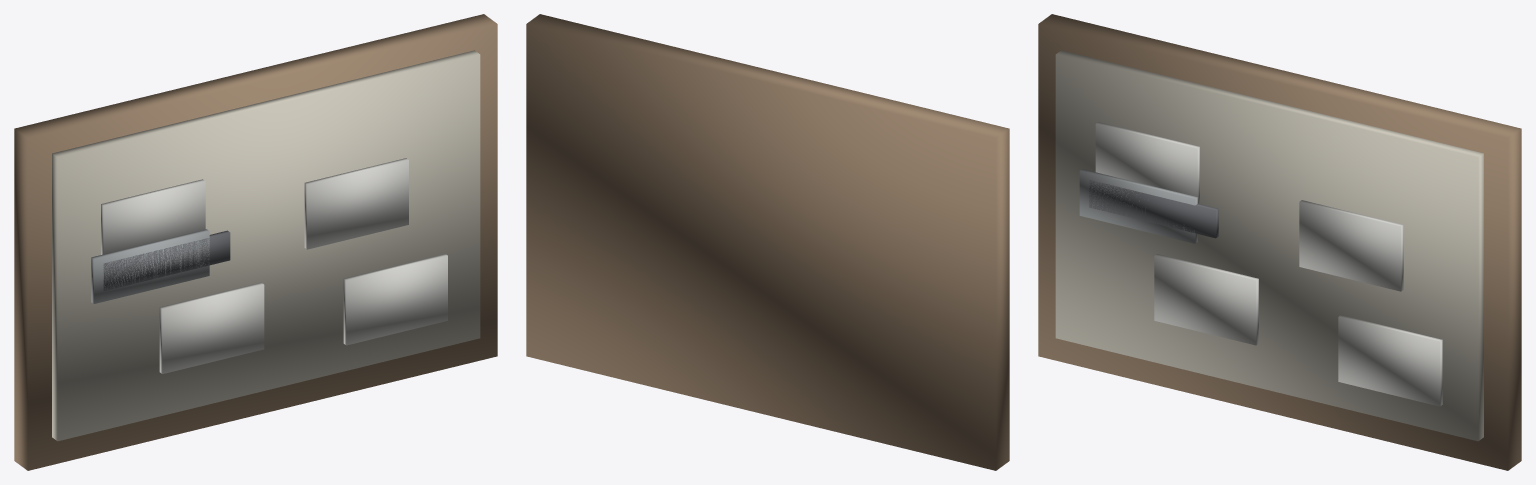
Rendered from cork_bulletin_board__weathered.glb.
The picture shows the model from 3 angles, left to right: view 1: azimuth 30°, elevation 25°; view 2: azimuth 150°, elevation 25°; view 3: azimuth 330°, elevation 25°; orthographic projection.
Parts seen in each view (by area): view 1: world; view 2: world; view 3: world.
Part boxes in pixels (x1,y1,x2,y2): world: [14, 14, 497, 470]; world: [526, 14, 1009, 470]; world: [1038, 14, 1521, 470].
Size of the model in its own units: 1.2 by 0.8118 by 0.115.
